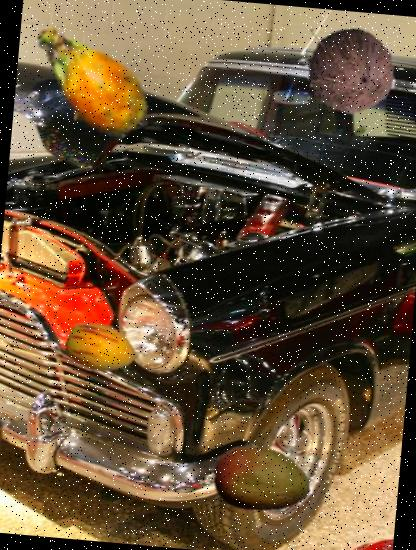Cactus: (15, 3, 166, 155)
Cocos: (302, 23, 401, 122)
Papaya: (205, 423, 317, 535)
Pepino: (63, 310, 141, 388)
